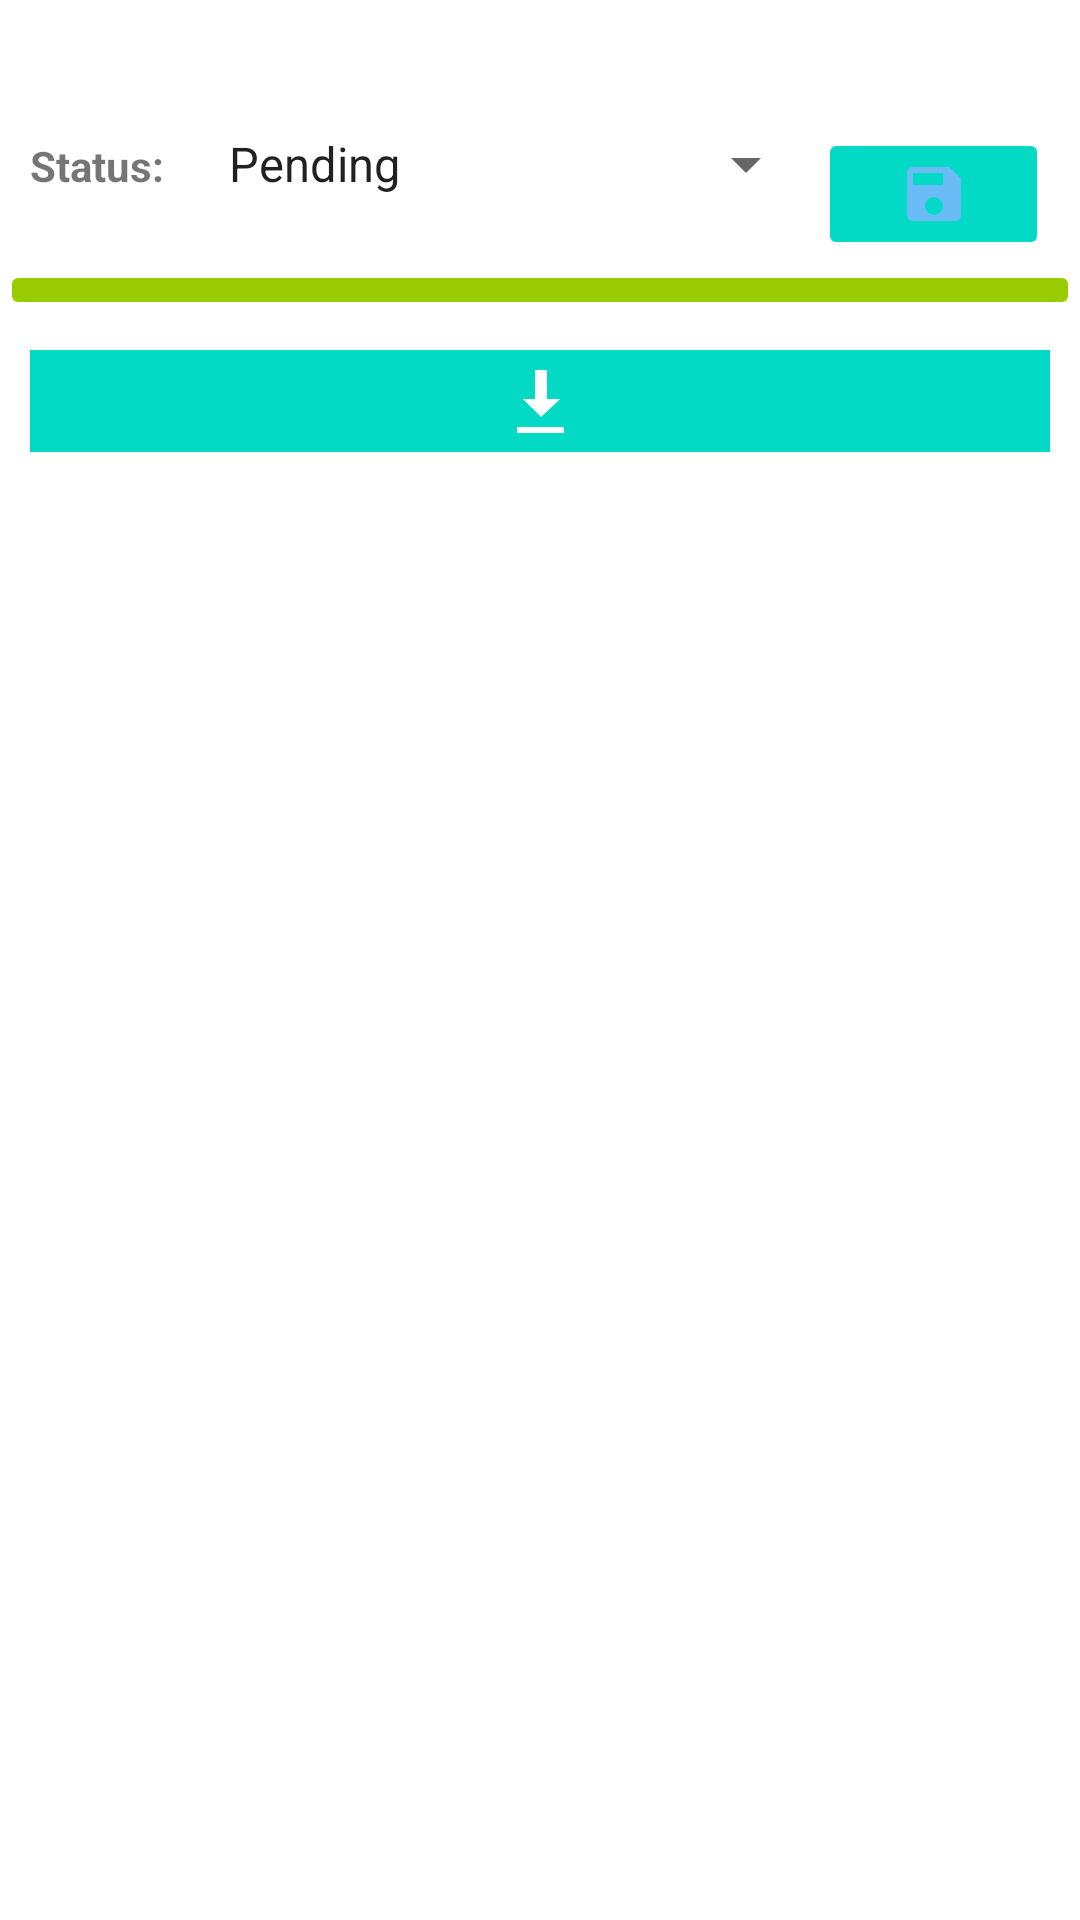

Screen size 1080w x 1920h. Icon name, then its center in pixels as (x=x, y=y):
save: (x=933, y=194)
